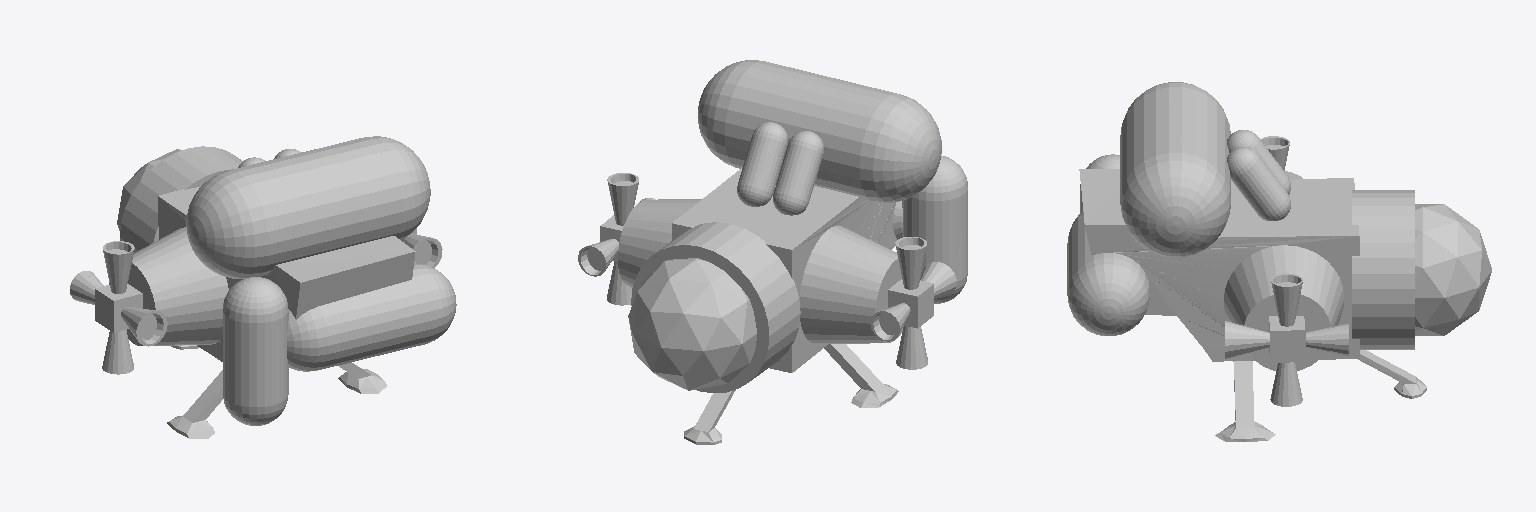
The model's file is spaceShip.obj.
The picture shows the model from 3 angles: view 1: azimuth 30°, elevation 25°; view 2: azimuth 150°, elevation 25°; view 3: azimuth 270°, elevation 25°; orthographic projection.
Parts seen in each view (by area): view 1: BODY; view 2: BODY; view 3: BODY.
Boxes of the visible parts, x1,y1,x2,y2 form: BODY: [70, 136, 456, 438]; BODY: [578, 60, 967, 444]; BODY: [1067, 82, 1491, 441].
Bounding box in the file's own units: 5.3 × 4.33 × 6.12.